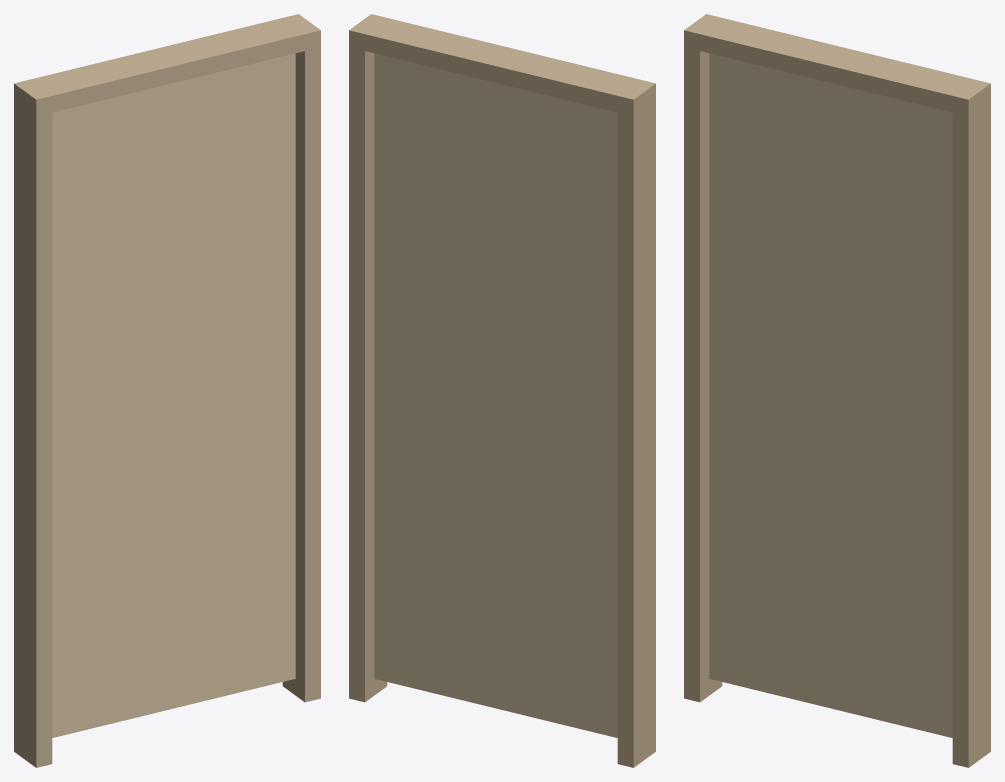
The picture shows the model from 3 angles, left to right: view 1: azimuth 30°, elevation 25°; view 2: azimuth 150°, elevation 25°; view 3: azimuth 330°, elevation 25°; orthographic projection.
Parts seen in each view (by area): view 1: leaf, frame (×3); view 2: leaf, frame (×3); view 3: leaf, frame (×3).
Boxes of the visible parts, bbox=[...] form: leaf: bbox=[52, 53, 295, 737]; frame (×3): bbox=[14, 14, 320, 767]; leaf: bbox=[374, 53, 617, 737]; frame (×3): bbox=[349, 14, 655, 767]; leaf: bbox=[709, 53, 952, 737]; frame (×3): bbox=[684, 14, 990, 767].
Bounding box in the file's own units: 0.885 × 1.99 × 0.12.
